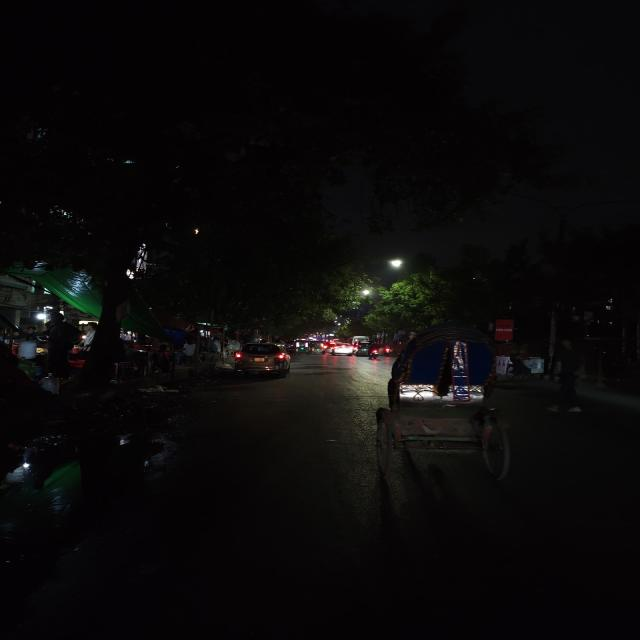car: (228, 340, 294, 378), (330, 340, 358, 356)
pedestrian: (548, 338, 588, 396)
rickshaw: (375, 320, 525, 484), (308, 341, 323, 355)
